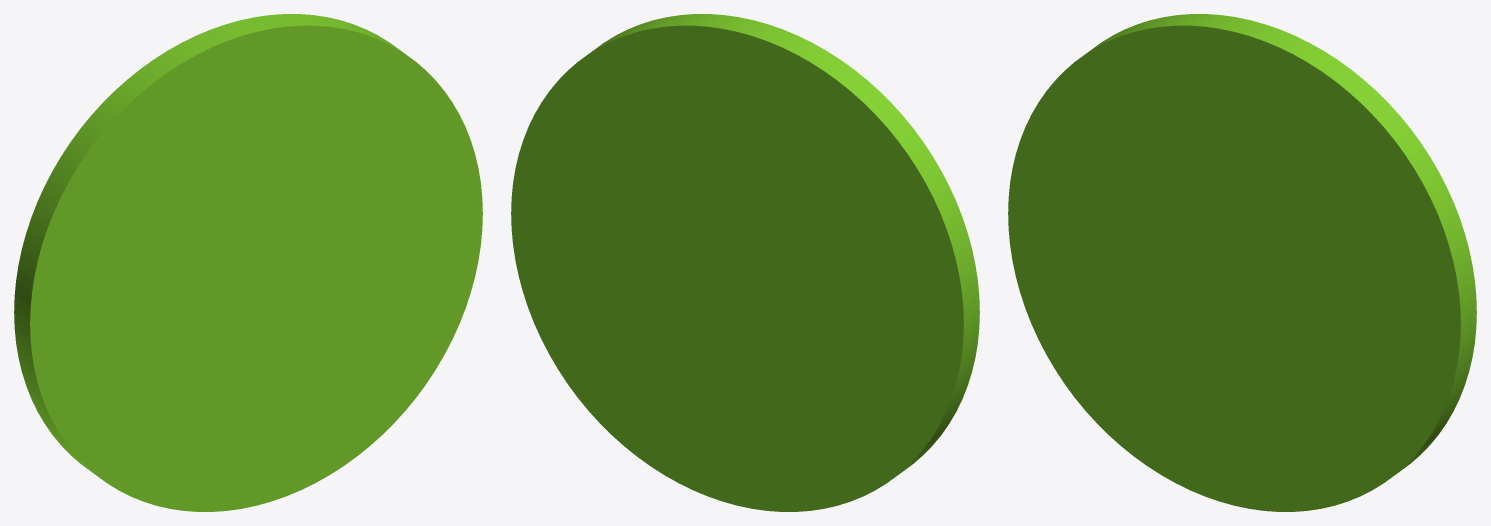
File: nano_center_green.obj
3 views of the same model, side by side, from view 1: azimuth 30°, elevation 25°; view 2: azimuth 150°, elevation 25°; view 3: azimuth 330°, elevation 25° (orthographic).
Bounding box in the file's own units: 0.0131 × 0.0131 × 0.0008.
Materials: 1 (1 with a texture image).
